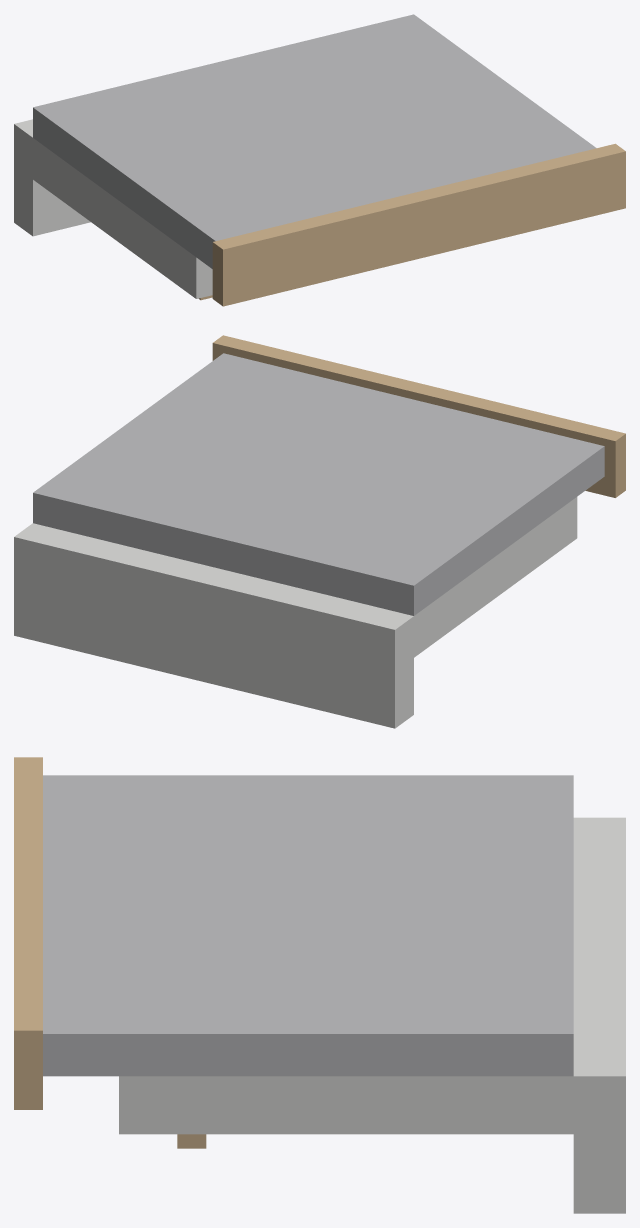
The model's file is Fireplace.glb.
3 renders of one model, top to bottom at view 1: azimuth 30°, elevation 25°; view 2: azimuth 150°, elevation 25°; view 3: azimuth 270°, elevation 25°, orthographic. The views are drawn at different scales.
Parts seen in each view (by area): view 1: FTF_Interior_Fireplace_Stone_v2_BackBoard, FTF_Interior_Fireplace_Stone_v2_TopCap, FTF_Interior_Fireplace_Stone_v2_LeftPillar, FTF_Interior_Fireplace_Stone_v2_Hearth, FTF_Interior_Fireplace_Stone_v2_Lintel; view 2: FTF_Interior_Fireplace_Stone_v2_BackBoard, FTF_Interior_Fireplace_Stone_v2_Hearth, FTF_Interior_Fireplace_Stone_v2_TopCap, FTF_Interior_Fireplace_Stone_v2_LeftPillar, FTF_Interior_Fireplace_Stone_v2_Lintel; view 3: FTF_Interior_Fireplace_Stone_v2_BackBoard, FTF_Interior_Fireplace_Stone_v2_Hearth, FTF_Interior_Fireplace_Stone_v2_RightPillar, FTF_Interior_Fireplace_Stone_v2_TopCap, FTF_Interior_Fireplace_Stone_v2_Lintel.
Boxes of the visible parts, x1,y1,x2,y2 form: FTF_Interior_Fireplace_Stone_v2_BackBoard: (33, 14, 596, 268); FTF_Interior_Fireplace_Stone_v2_TopCap: (212, 143, 625, 306); FTF_Interior_Fireplace_Stone_v2_LeftPillar: (33, 138, 156, 269); FTF_Interior_Fireplace_Stone_v2_Hearth: (14, 119, 90, 236); FTF_Interior_Fireplace_Stone_v2_Lintel: (156, 228, 212, 298); FTF_Interior_Fireplace_Stone_v2_BackBoard: (33, 353, 604, 615); FTF_Interior_Fireplace_Stone_v2_Hearth: (14, 523, 413, 728); FTF_Interior_Fireplace_Stone_v2_TopCap: (212, 335, 625, 497); FTF_Interior_Fireplace_Stone_v2_LeftPillar: (414, 526, 537, 657); FTF_Interior_Fireplace_Stone_v2_Lintel: (537, 497, 577, 566); FTF_Interior_Fireplace_Stone_v2_BackBoard: (43, 775, 573, 1076); FTF_Interior_Fireplace_Stone_v2_Hearth: (573, 817, 625, 1213); FTF_Interior_Fireplace_Stone_v2_RightPillar: (229, 1076, 573, 1134); FTF_Interior_Fireplace_Stone_v2_TopCap: (14, 757, 42, 1109); FTF_Interior_Fireplace_Stone_v2_Lintel: (119, 1076, 229, 1134).
Size of the model in its own units: 2.22 by 0.72 by 2.1.
